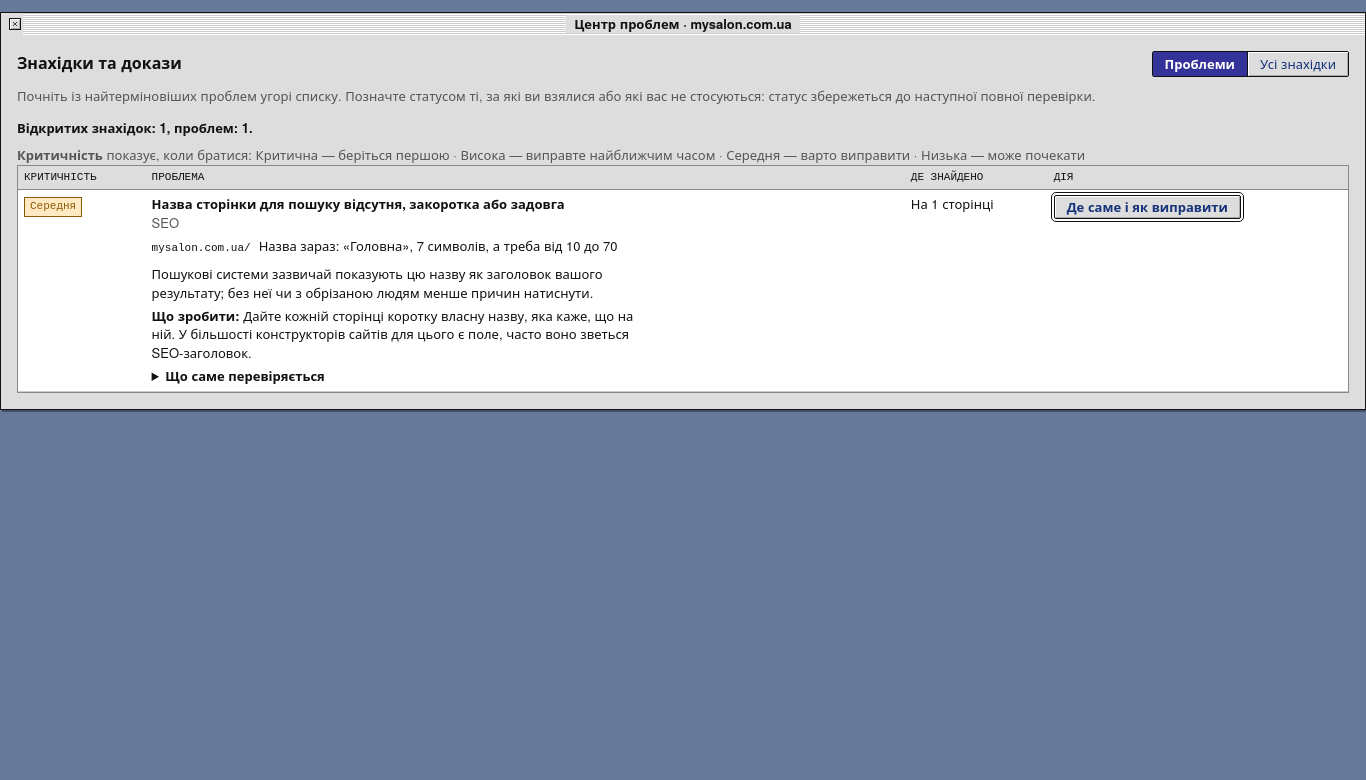
the Issue Center over the real summary request › shows the evidence and still opens the problem onto its findings
Check: the text "Назва зараз: «Головна», 7 символів, а треба від 10 до 70" is shown, box [259,236,618,255]
What coordinates should you click on to do the following:
click the button named "Де саме і як виправити: Назва сторінки для пошуку відсутня, закоротка або задовга"
I would click on:
 (1147, 207)
Its box is [1054,195,1241,219].
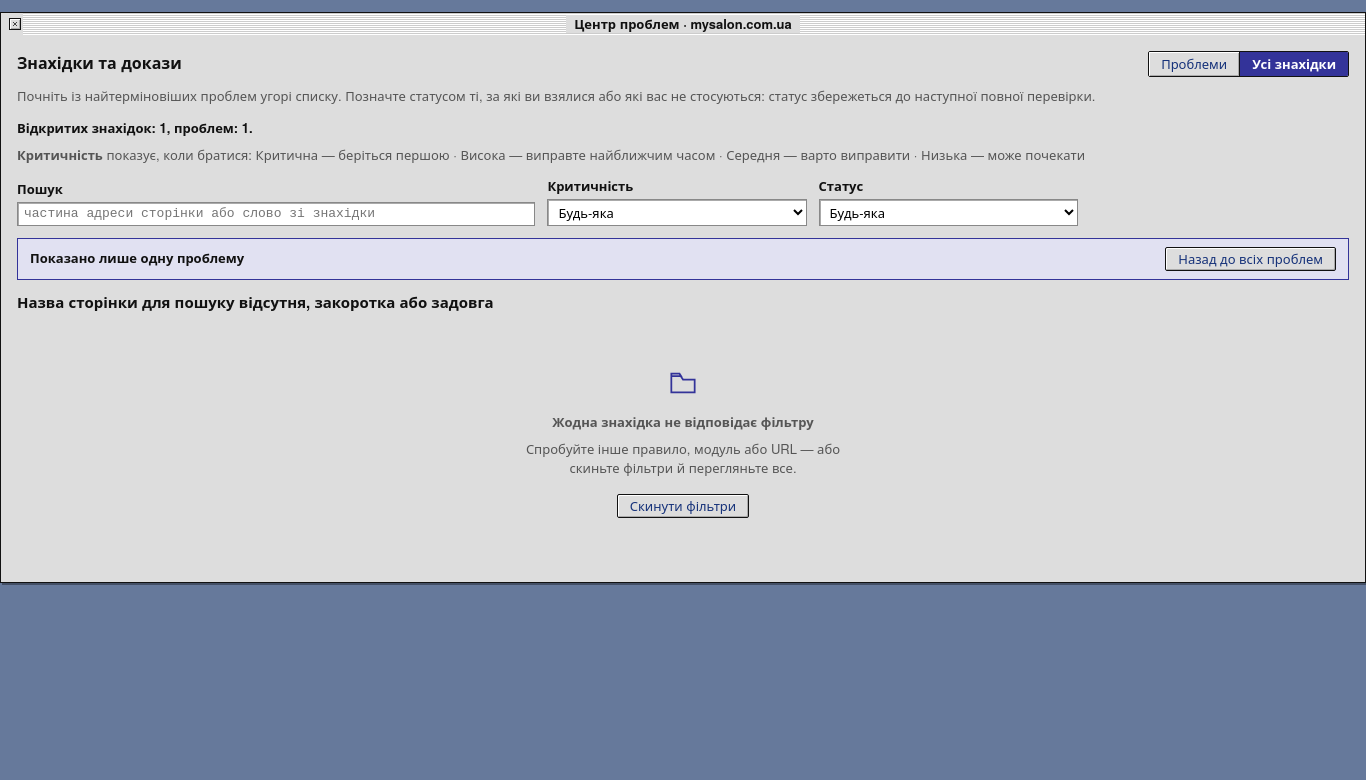
Check: the text "Показано лише одну проблему" is shown, box [30,249,244,268]
